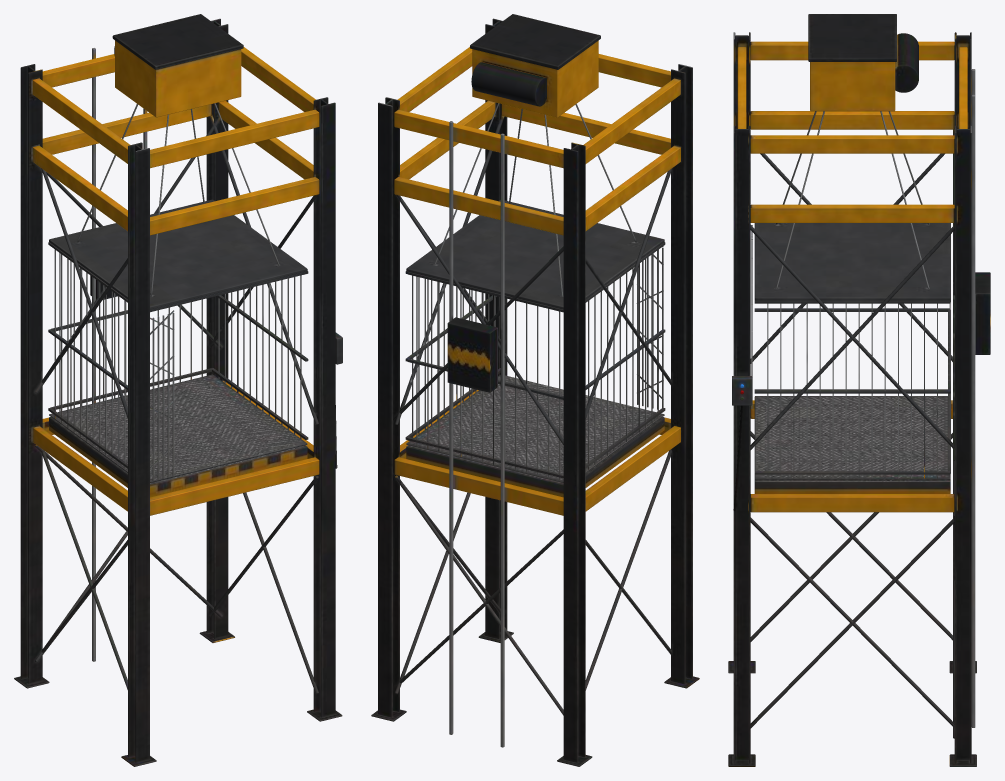
File: freight_lift.glb
3 renders of one model, left to right at view 1: azimuth 30°, elevation 25°; view 2: azimuth 150°, elevation 25°; view 3: azimuth 270°, elevation 25°, orthographic. The views are drawn at different scales.
Parts seen in each view (by area): view 1: freight_lift; view 2: freight_lift; view 3: freight_lift.
Boxes of the visible parts, x1,y1,x2,y2 form: freight_lift: [14, 14, 342, 766]; freight_lift: [371, 14, 699, 766]; freight_lift: [728, 14, 990, 766].
Bounding box in the file's own units: 2.98 × 8.8 × 3.08.
Materials: 1 (1 with a texture image).
